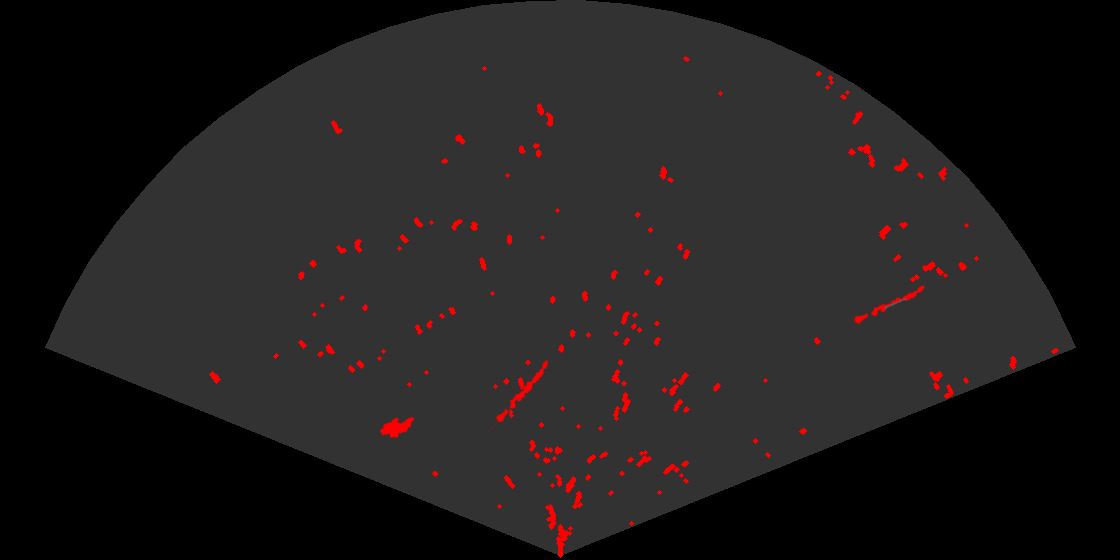AUV: (378, 415, 416, 440)
chain: (489, 359, 550, 433), (849, 284, 927, 326)
